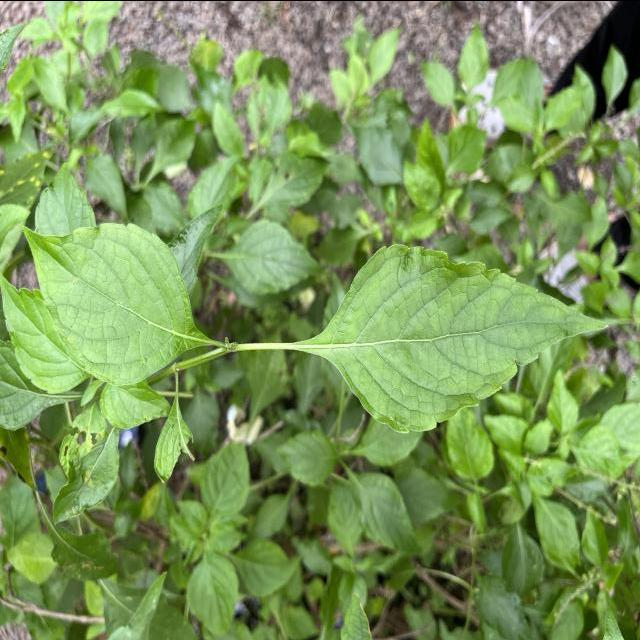Ocimum gratissimum: (284, 239, 612, 436), (17, 218, 218, 389), (0, 269, 98, 397)
